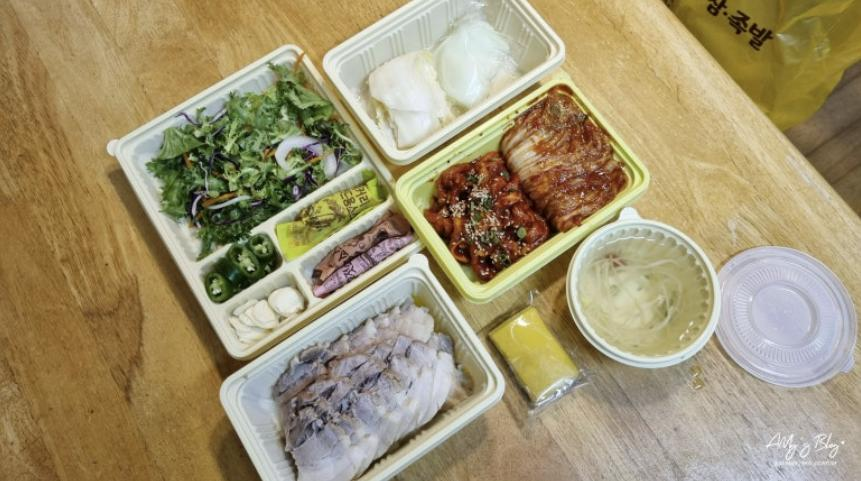Lunch Box: (108, 45, 423, 359), (220, 254, 504, 480), (396, 73, 649, 302), (323, 0, 563, 164)
cup: (567, 208, 857, 386)
